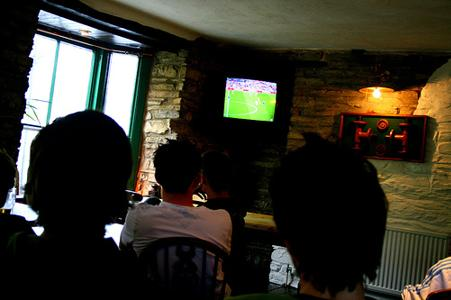person: (122, 141, 233, 300)
